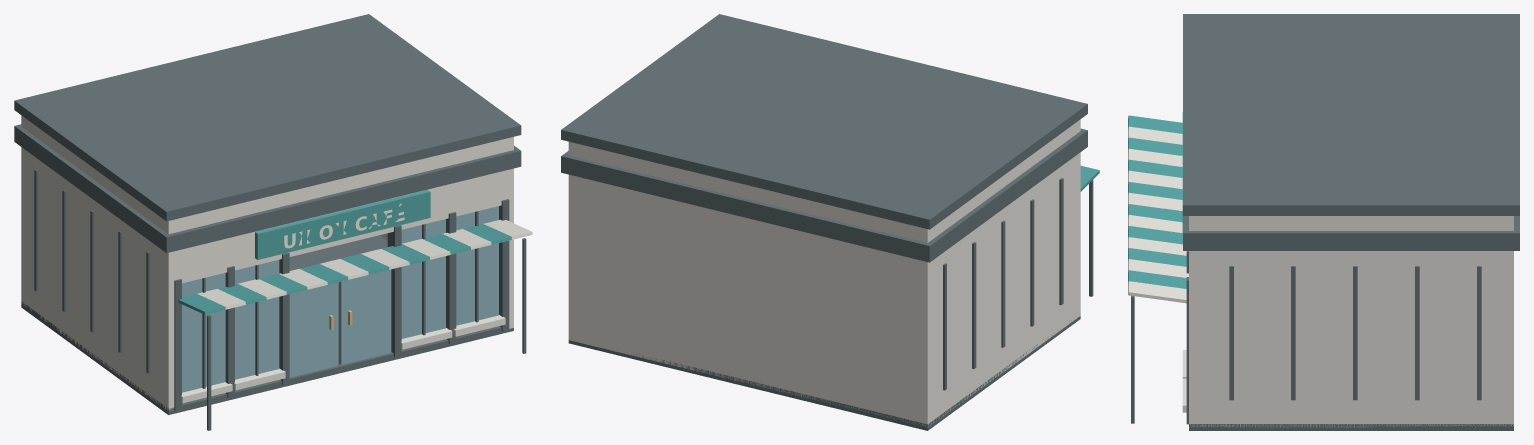
The model's file is union-cafe-v0.1.glb.
The picture shows the model from 3 angles, left to right: view 1: azimuth 30°, elevation 25°; view 2: azimuth 150°, elevation 25°; view 3: azimuth 270°, elevation 25°; orthographic projection. The views are drawn at different scales.
Parts seen in each view (by area): view 1: material_0, material_1, material_2, material_4, material_6, material_7, material_5; view 2: material_1, material_0; view 3: material_0, material_1, material_7, material_6.
Part boxes in pixels (x1,y1,x2,y2): material_0: (14, 14, 526, 430); material_1: (21, 115, 513, 411); material_2: (182, 206, 498, 392); material_4: (255, 190, 430, 259); material_6: (178, 224, 511, 314); material_7: (197, 219, 532, 309); material_5: (284, 203, 404, 248); material_1: (568, 119, 1080, 427); material_0: (561, 14, 1093, 430); material_0: (1131, 14, 1519, 430); material_1: (1182, 216, 1513, 427); material_7: (1128, 126, 1188, 303); material_6: (1128, 115, 1186, 288).
Bounding box in the file's own units: 11.7 × 6.5 × 10.12.
